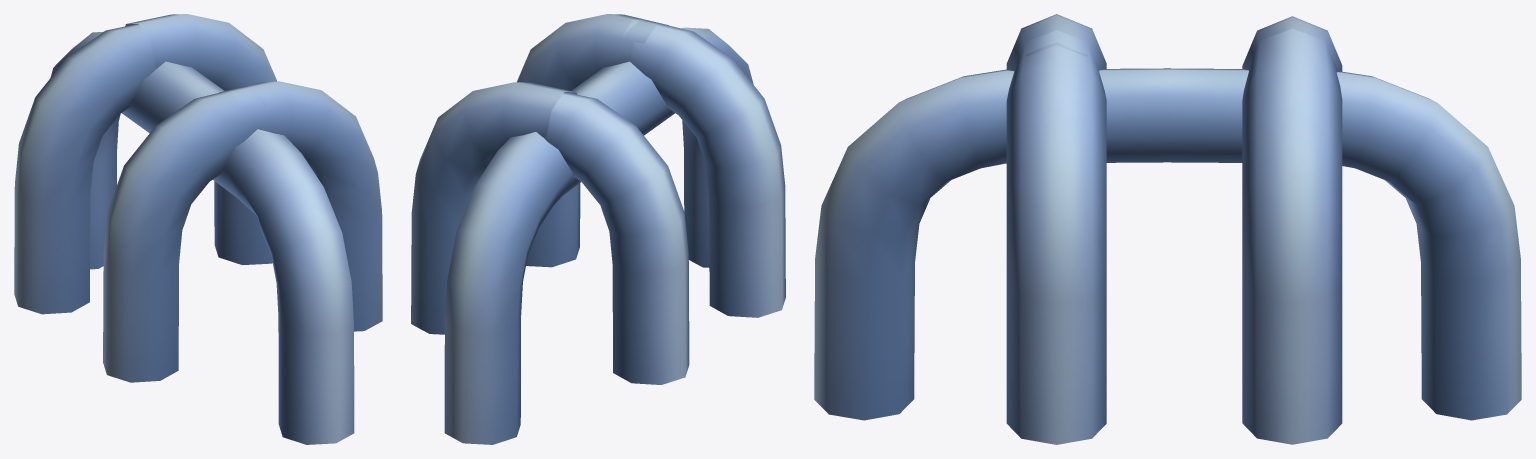
Rendered from Lock_1.fbx.
3 renders of one model, left to right at view 1: azimuth 30°, elevation 25°; view 2: azimuth 150°, elevation 25°; view 3: azimuth 270°, elevation 25°, orthographic. The views are drawn at different scales.
Visible parts, largest first — view 1: lock_1; view 2: lock_1; view 3: lock_1.
Boxes of the visible parts, x1,y1,x2,y2 form: lock_1: (14,14,382,444); lock_1: (411,14,785,444); lock_1: (814,14,1521,444).
Bounding box in the file's own units: 0.682 × 0.6834 × 1.2.
